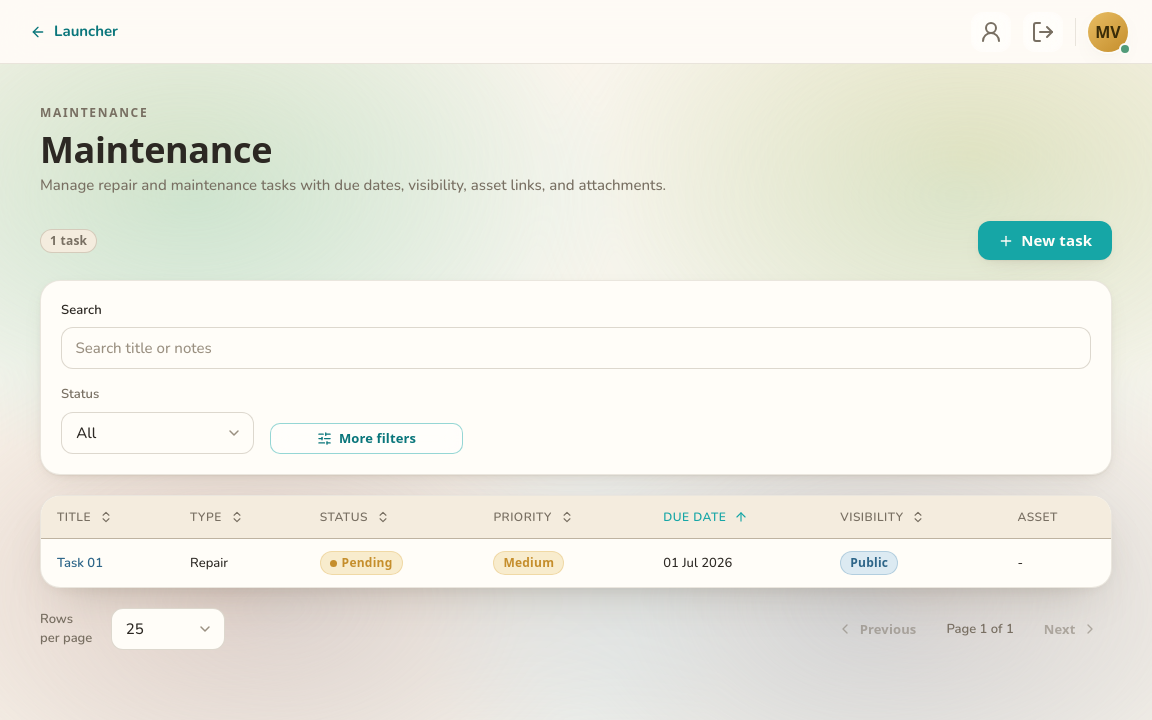
Maintenance page › opens the create dialog without losing table state
Expected: the button "Task 01" is shown, [57, 554, 103, 573]
Step 1. Type "Task 01" into the field labelled "Search" → (576, 348), box [76, 329, 1076, 367]
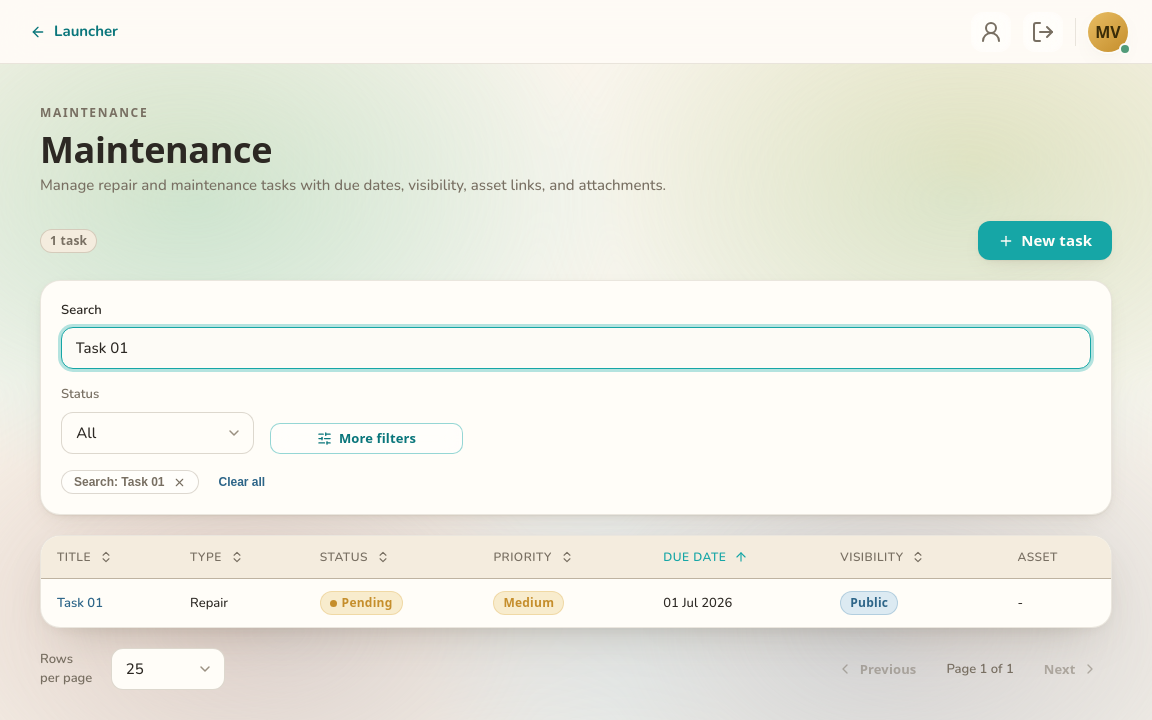
Step 2. Click the button "New task" → (1045, 241), box [978, 221, 1112, 260]
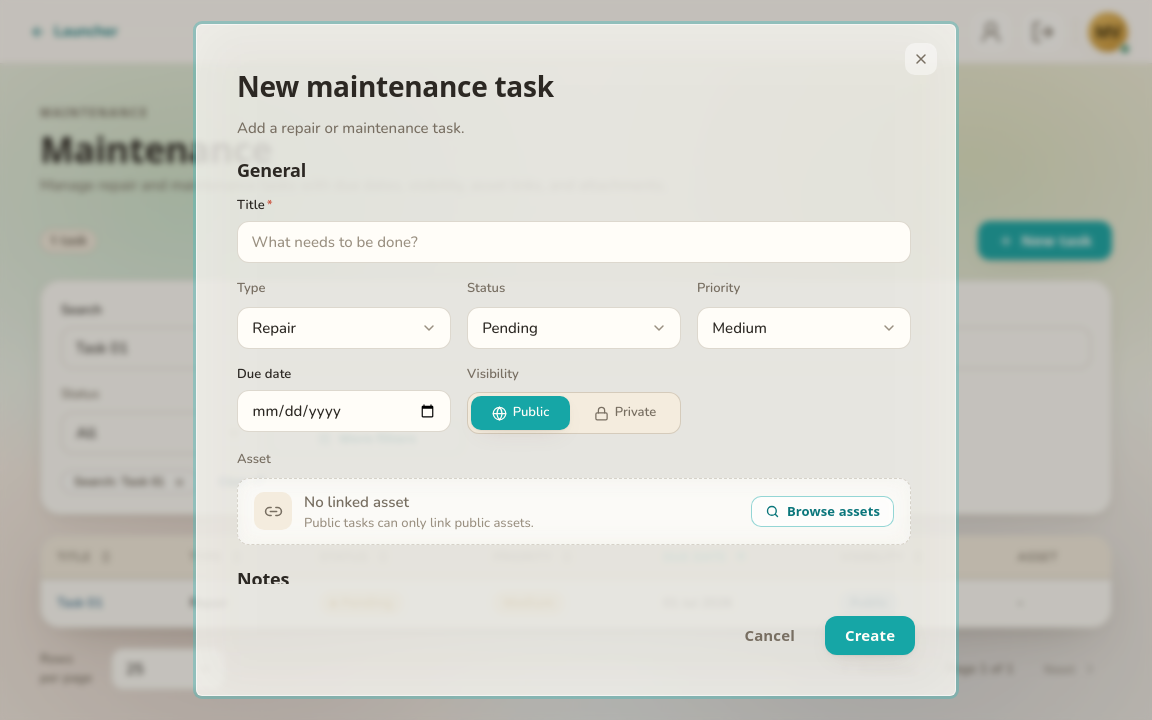
Now the dialog "New maintenance task" is shown
